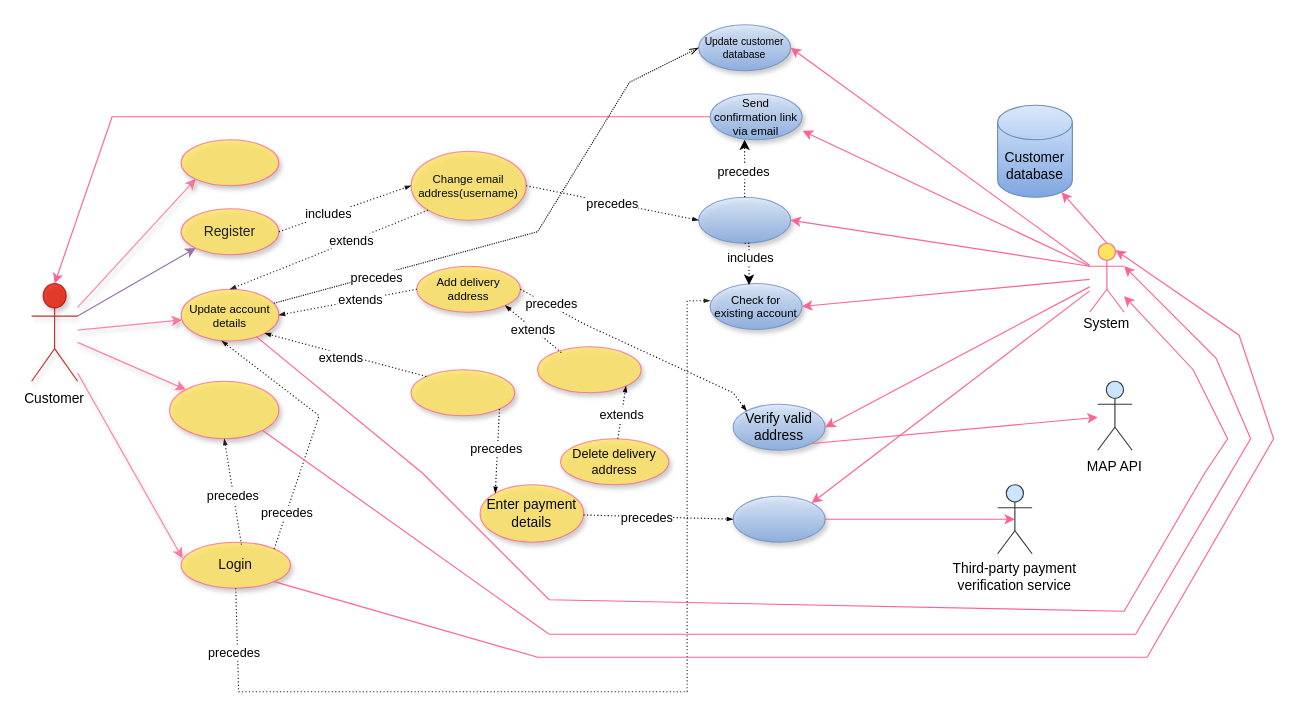
This 1303x718 diagram has some shape labels left out. The shapes that lost their labels are listed below. From the top down, each one's centre as x and y in pixels, then its label:
point (230, 164): Confirm email address
point (745, 221): Verify email is unique
point (590, 371): Update delivery address
point (225, 411): View accoıunt
point (463, 394): Add payment method
point (779, 520): Verify credit address
